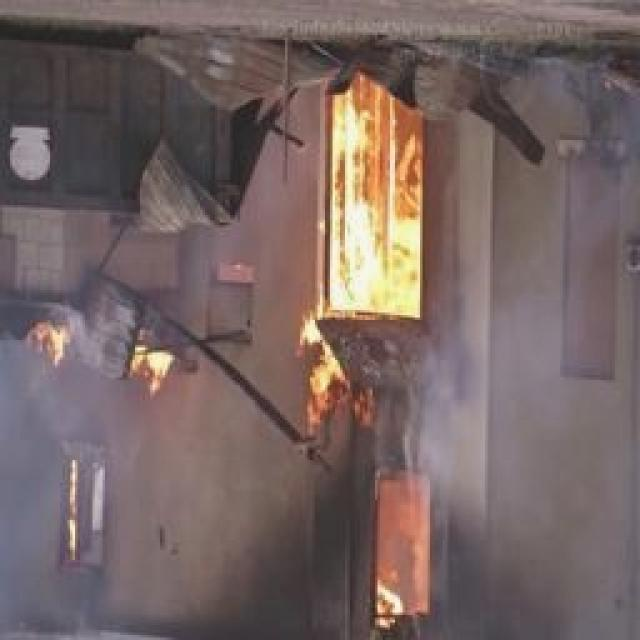fire: (318, 101, 424, 324), (372, 473, 428, 625)
